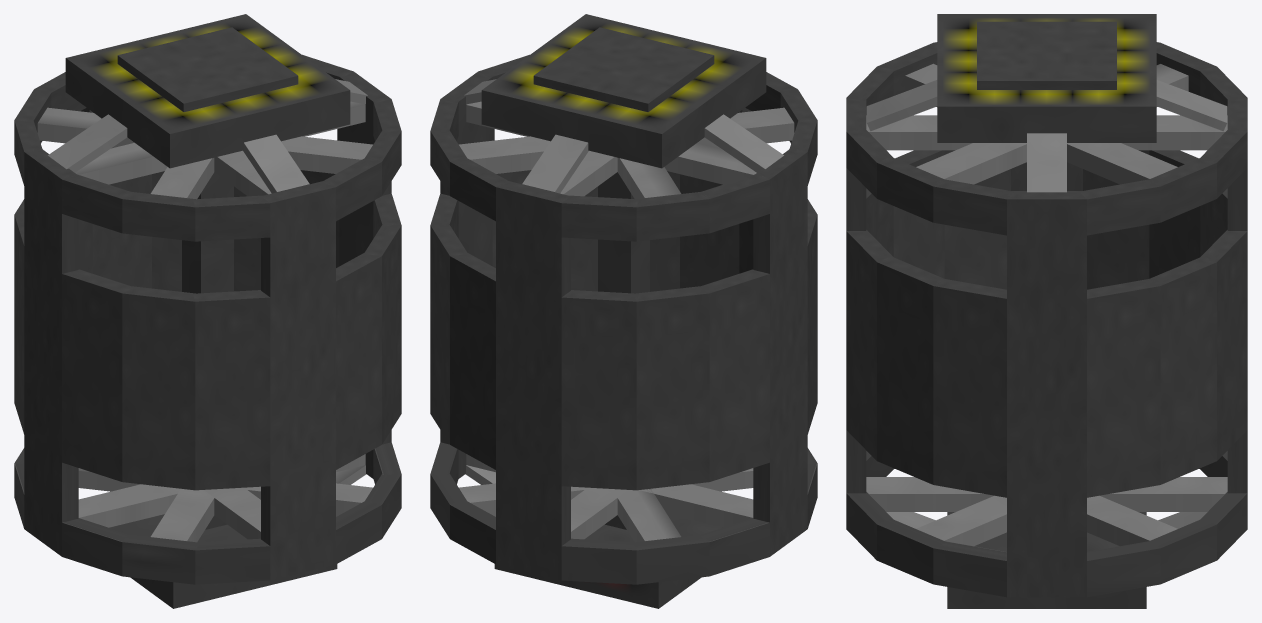
File: turbine_big.obj
The picture shows the model from 3 angles, left to right: view 1: azimuth 30°, elevation 25°; view 2: azimuth 150°, elevation 25°; view 3: azimuth 270°, elevation 25°; orthographic projection. The views are drawn at different scales.
Visible parts, largest first — view 1: hexadecagon, cube; view 2: hexadecagon, cube; view 3: hexadecagon, cube.
Boxes of the visible parts, x1=… form: hexadecagon: x1=14, y1=54, x2=401, y2=584; cube: x1=37, y1=14, x2=372, y2=608; hexadecagon: x1=430, y1=54, x2=817, y2=584; cube: x1=459, y1=14, x2=794, y2=608; hexadecagon: x1=846, y1=42, x2=1247, y2=597; cube: x1=866, y1=14, x2=1227, y2=608.
Size of the model in its own units: 10.05 by 14.5 by 10.05.
